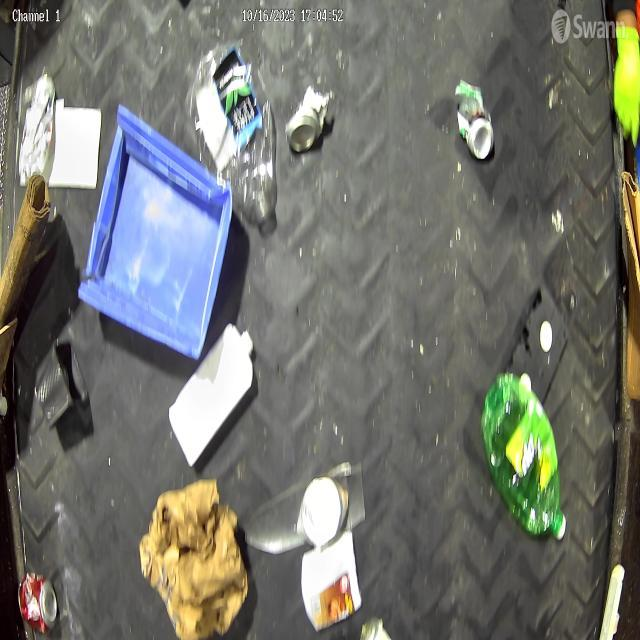can: (284, 88, 336, 166), (15, 552, 62, 628), (459, 85, 496, 159)
milk_jug: (170, 322, 260, 460)
plastic_bottle: (183, 40, 277, 228)
